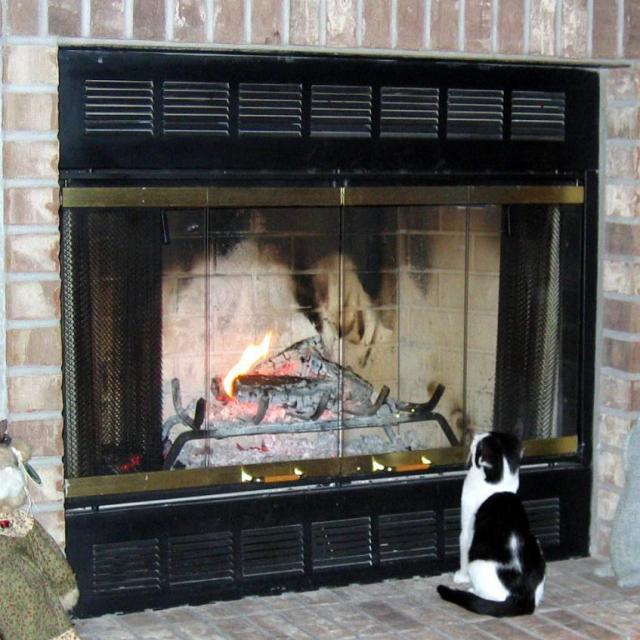Fire: (212, 316, 284, 400)
